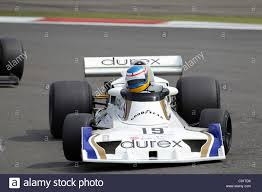FormulaOneCar: (43, 53, 239, 167)
